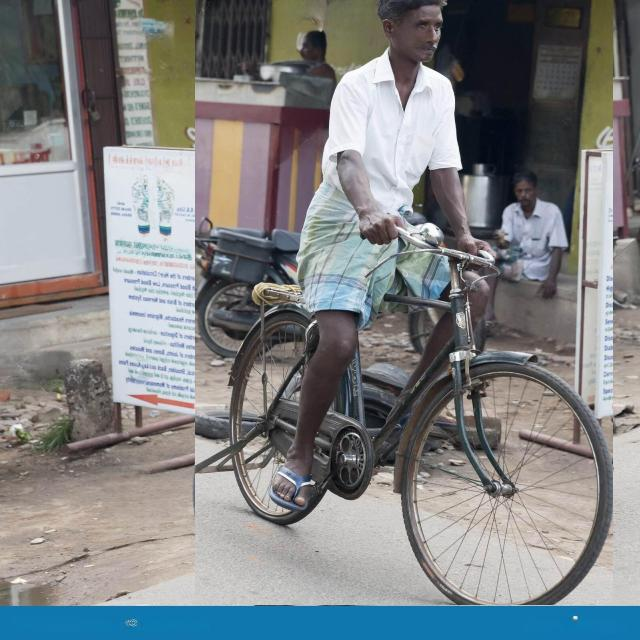bicycle: (195, 0, 612, 605)
